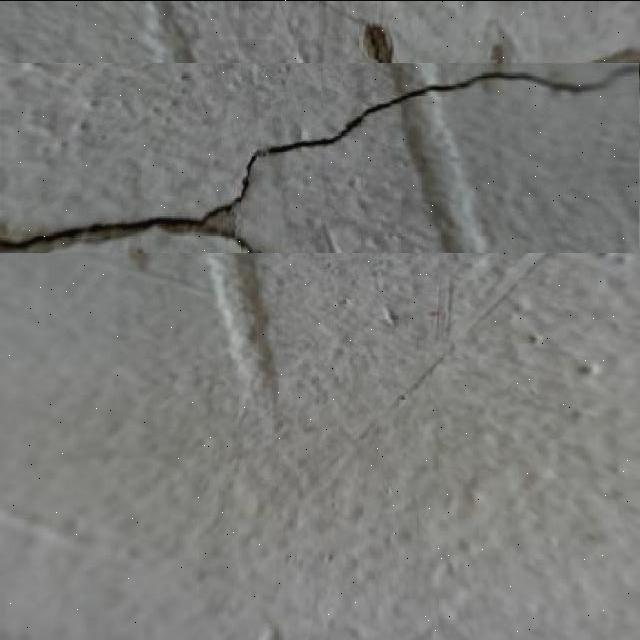crack: (2, 46, 638, 256)
